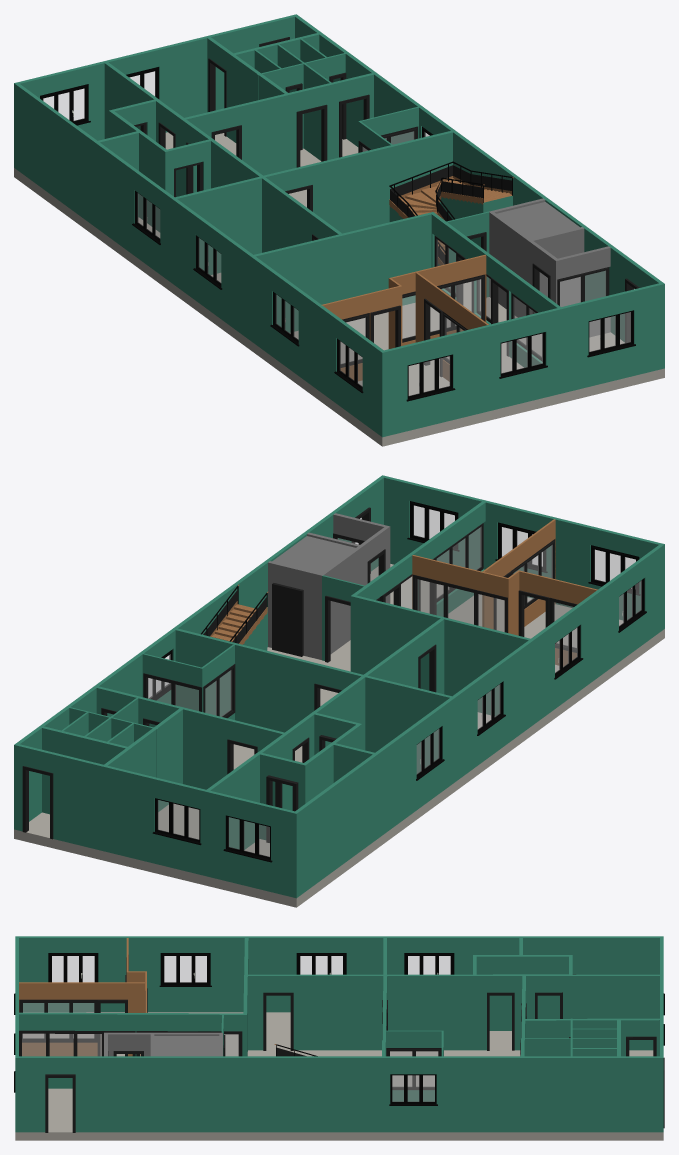
Rendered from FloorG.gltf.
3 renders of one model, top to bottom at view 1: azimuth 30°, elevation 25°; view 2: azimuth 150°, elevation 25°; view 3: azimuth 270°, elevation 25°, orthographic. The views are drawn at different scales.
Parts seen in each view (by area): view 1: Wall, Wall.001, Slab, Wall.007, Wall.003, Wall.006, Wall.002, Stair, Wall.009, Wall.012, Wall.005, Wall.008 (+13 smaller); view 2: Wall, Slab, Wall.001, Wall.007, Wall.003, Wall.002, Wall.006, Wall.009, Wall.012, Wall.005, Stair, Wall.015 (+14 smaller); view 3: Wall, Wall.003, Slab, Wall.002, Wall.001, Wall.011, Wall.021, Wall.005, Wall.004, Slab.001, Wall.017, Wall.008 (+38 smaller).
Part boxes in pixels (left/top/right/bottom): Wall: left=14, top=14, right=664, bottom=437; Wall.001: left=251, top=212, right=562, bottom=367; Slab: left=14, top=132, right=664, bottom=446; Wall.007: left=263, top=130, right=455, bottom=233; Wall.003: left=95, top=62, right=263, bottom=232; Wall.006: left=184, top=73, right=373, bottom=192; Wall.002: left=172, top=176, right=341, bottom=274; Stair: left=389, top=161, right=513, bottom=265; Wall.009: left=489, top=198, right=584, bottom=317; Wall.012: left=321, top=254, right=486, bottom=381; Wall.005: left=206, top=36, right=288, bottom=142; Wall.008: left=528, top=240, right=610, bottom=337; Wall: left=14, top=475, right=664, bottom=898; Slab: left=14, top=564, right=664, bottom=907; Wall.001: left=350, top=501, right=533, bottom=716; Wall.007: left=175, top=628, right=364, bottom=732; Wall.003: left=207, top=675, right=375, bottom=849; Wall.002: left=362, top=618, right=451, bottom=773; Wall.006: left=96, top=686, right=284, bottom=806; Wall.009: left=268, top=532, right=363, bottom=659; Wall.012: left=412, top=555, right=597, bottom=666; Wall.005: left=104, top=708, right=182, bottom=811; Stair: left=201, top=584, right=268, bottom=650; Wall.015: left=42, top=726, right=131, bottom=814; Wall: left=15, top=936, right=663, bottom=1132; Wall.003: left=387, top=937, right=659, bottom=1050; Slab: left=15, top=1012, right=663, bottom=1140; Wall.002: left=248, top=938, right=386, bottom=1050; Wall.001: left=19, top=936, right=248, bottom=1088; Wall.011: left=19, top=982, right=144, bottom=1056; Wall.021: left=476, top=974, right=568, bottom=1050; Wall.005: left=524, top=1018, right=663, bottom=1056; Wall.004: left=386, top=1030, right=443, bottom=1101; Slab.001: left=154, top=1036, right=219, bottom=1056; Wall.017: left=524, top=1038, right=616, bottom=1056; Wall.008: left=104, top=1032, right=150, bottom=1056.
Size of the model in its own units: 9.56 by 3 by 21.42.
8 materials, 1 textured.
